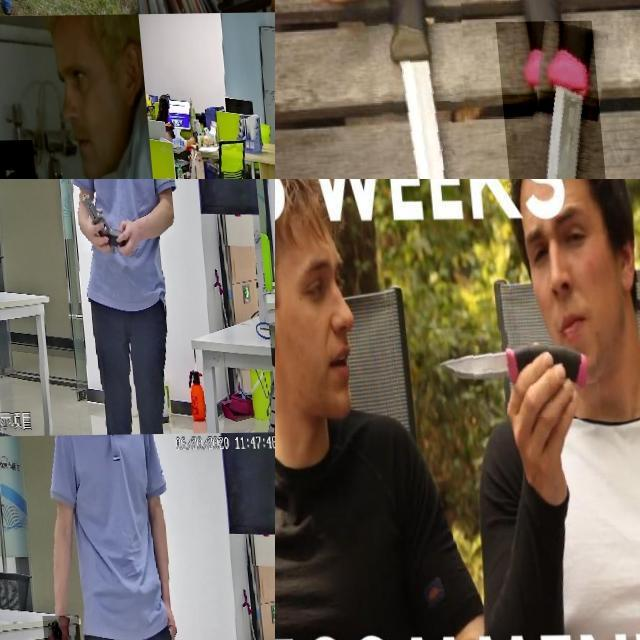-: (361, 0, 473, 179), (490, 22, 609, 179), (418, 328, 596, 419)
gun-knife-thesis - v11 Yolov5 augmented: (76, 190, 128, 253), (0, 0, 23, 48), (32, 616, 75, 640)
